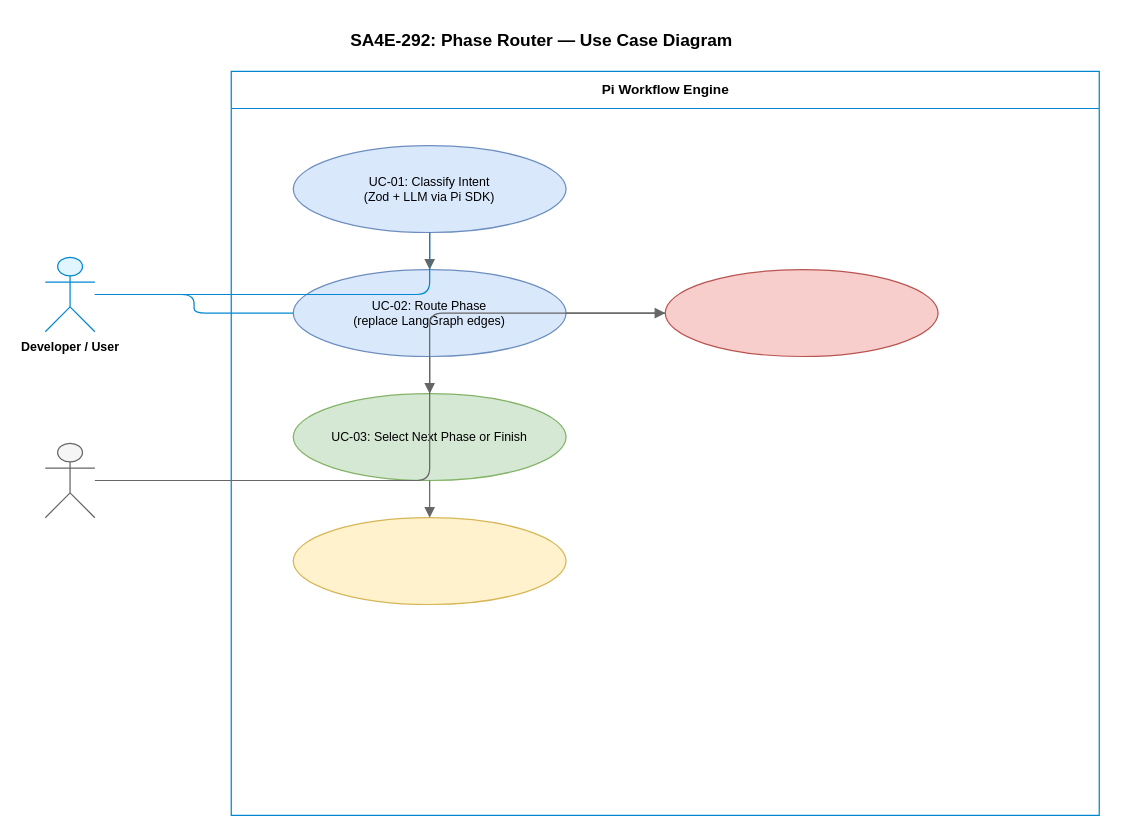
The diagram is 1121 pixels wide and 837 high, and some of its shapes have lost their labels. The centre of each missing label's shape, as x and y in pixels:
PiAgent Executor: the point at 69,480
UC-04: Persist State (RemoteCheckpointer): the point at 429,560
UC-05: Assign Agent from Registry: the point at 801,312
